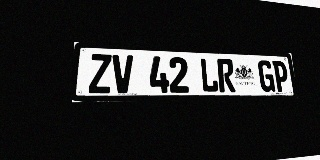2: (169, 57, 189, 93)
4: (149, 56, 169, 93)
G: (257, 60, 275, 92)
L: (200, 58, 219, 92)
P: (272, 61, 290, 92)
R: (217, 59, 236, 92)
V: (112, 54, 134, 93)
Z: (89, 54, 112, 93)
